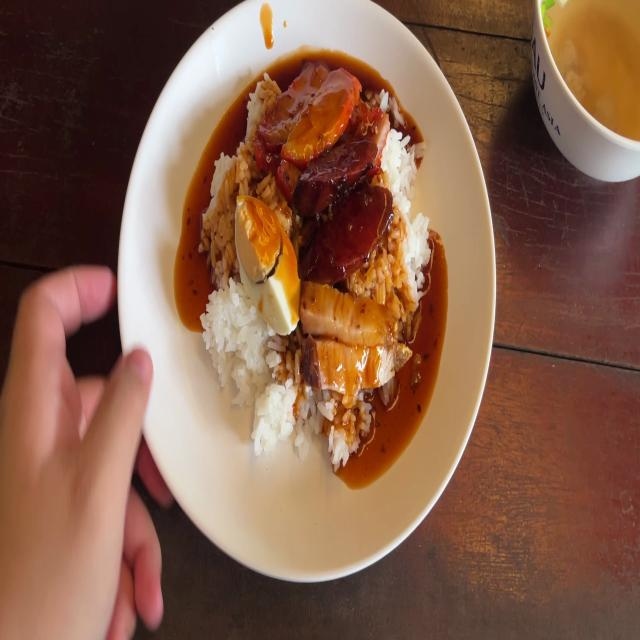01boiled_egg: (234, 204, 302, 341)
01chainese_sausage: (303, 132, 389, 277)
01crispy_pork: (302, 288, 409, 389)
01red_pork: (264, 59, 346, 151)
01red_pork_and_crispy_pork: (200, 62, 430, 454)
01rice: (384, 137, 430, 309), (202, 279, 262, 405), (251, 344, 320, 434), (208, 133, 237, 275)
